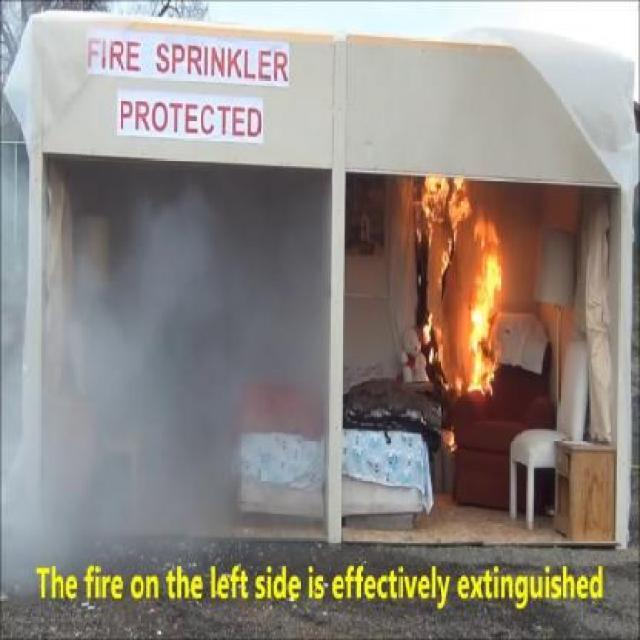fire: (415, 192, 503, 430)
smoke: (32, 178, 302, 544)
